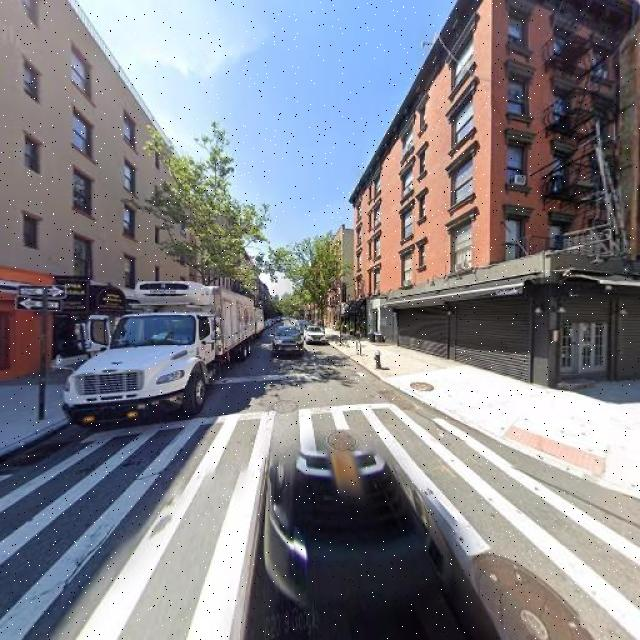Building: (355, 1, 628, 380), (1, 1, 193, 380)
